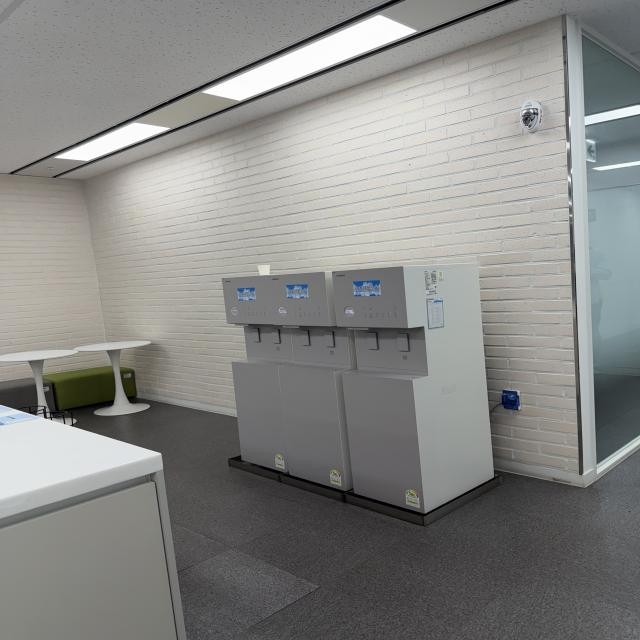water_dispenser: (222, 264, 500, 525)
